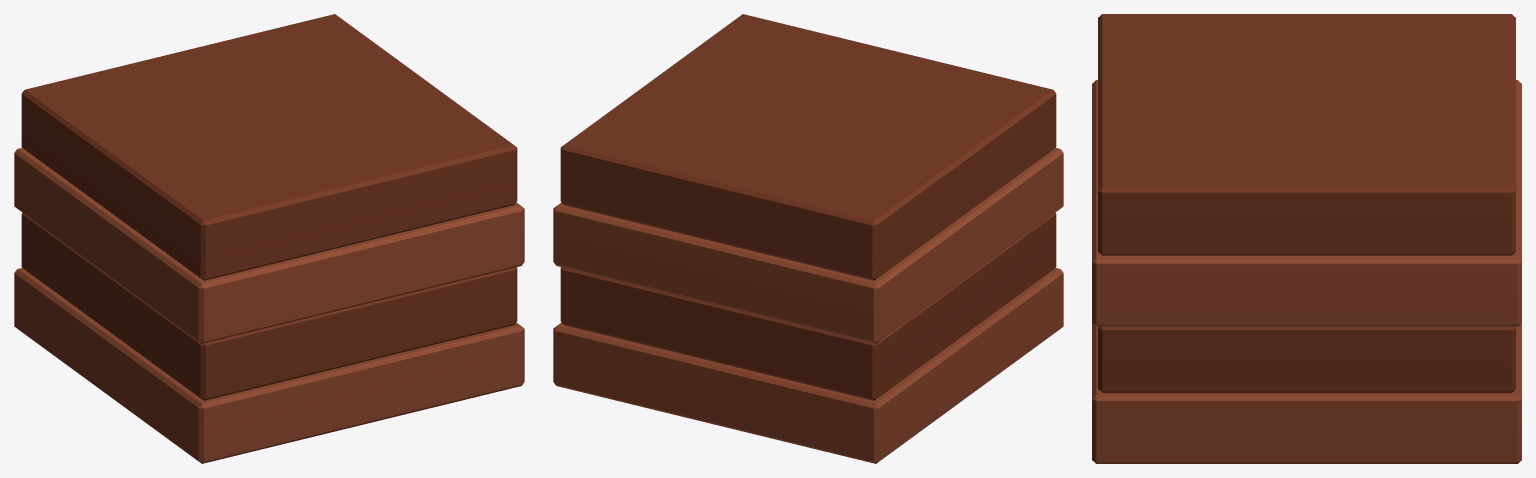
File: column_canyon.glb
The picture shows the model from 3 angles, left to right: view 1: azimuth 30°, elevation 25°; view 2: azimuth 150°, elevation 25°; view 3: azimuth 270°, elevation 25°; orthographic projection. The views are drawn at different scales.
Parts seen in each view (by area): view 1: column_canyon; view 2: column_canyon; view 3: column_canyon.
Boxes of the visible parts, <box> form: column_canyon: <box>14,14,524,463</box>; column_canyon: <box>553,14,1063,463</box>; column_canyon: <box>1092,14,1521,463</box>.
Bounding box in the file's own units: 1.42 × 1 × 1.42.
